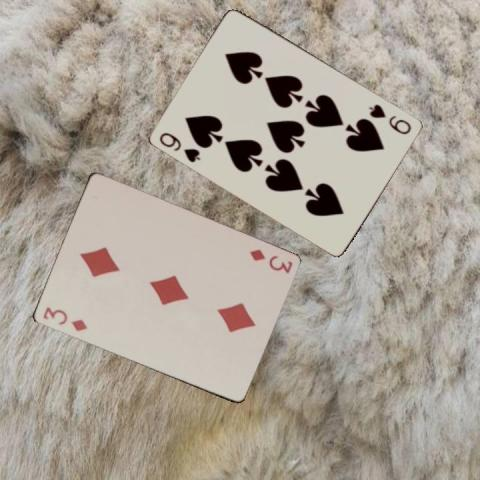3d: (39, 304, 89, 333), (246, 246, 294, 275)
9s: (366, 101, 413, 136), (156, 129, 202, 164)
